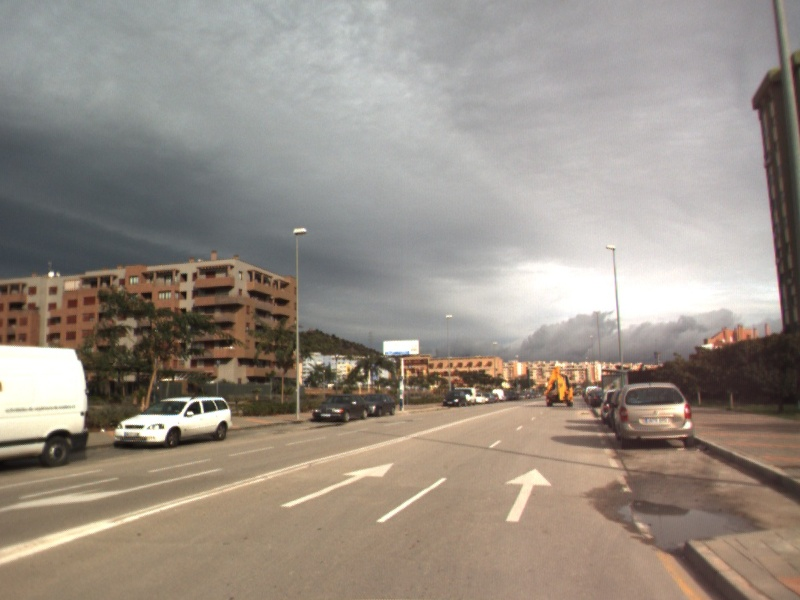STRAIGHT: (278, 461, 396, 509), (502, 466, 554, 524)
